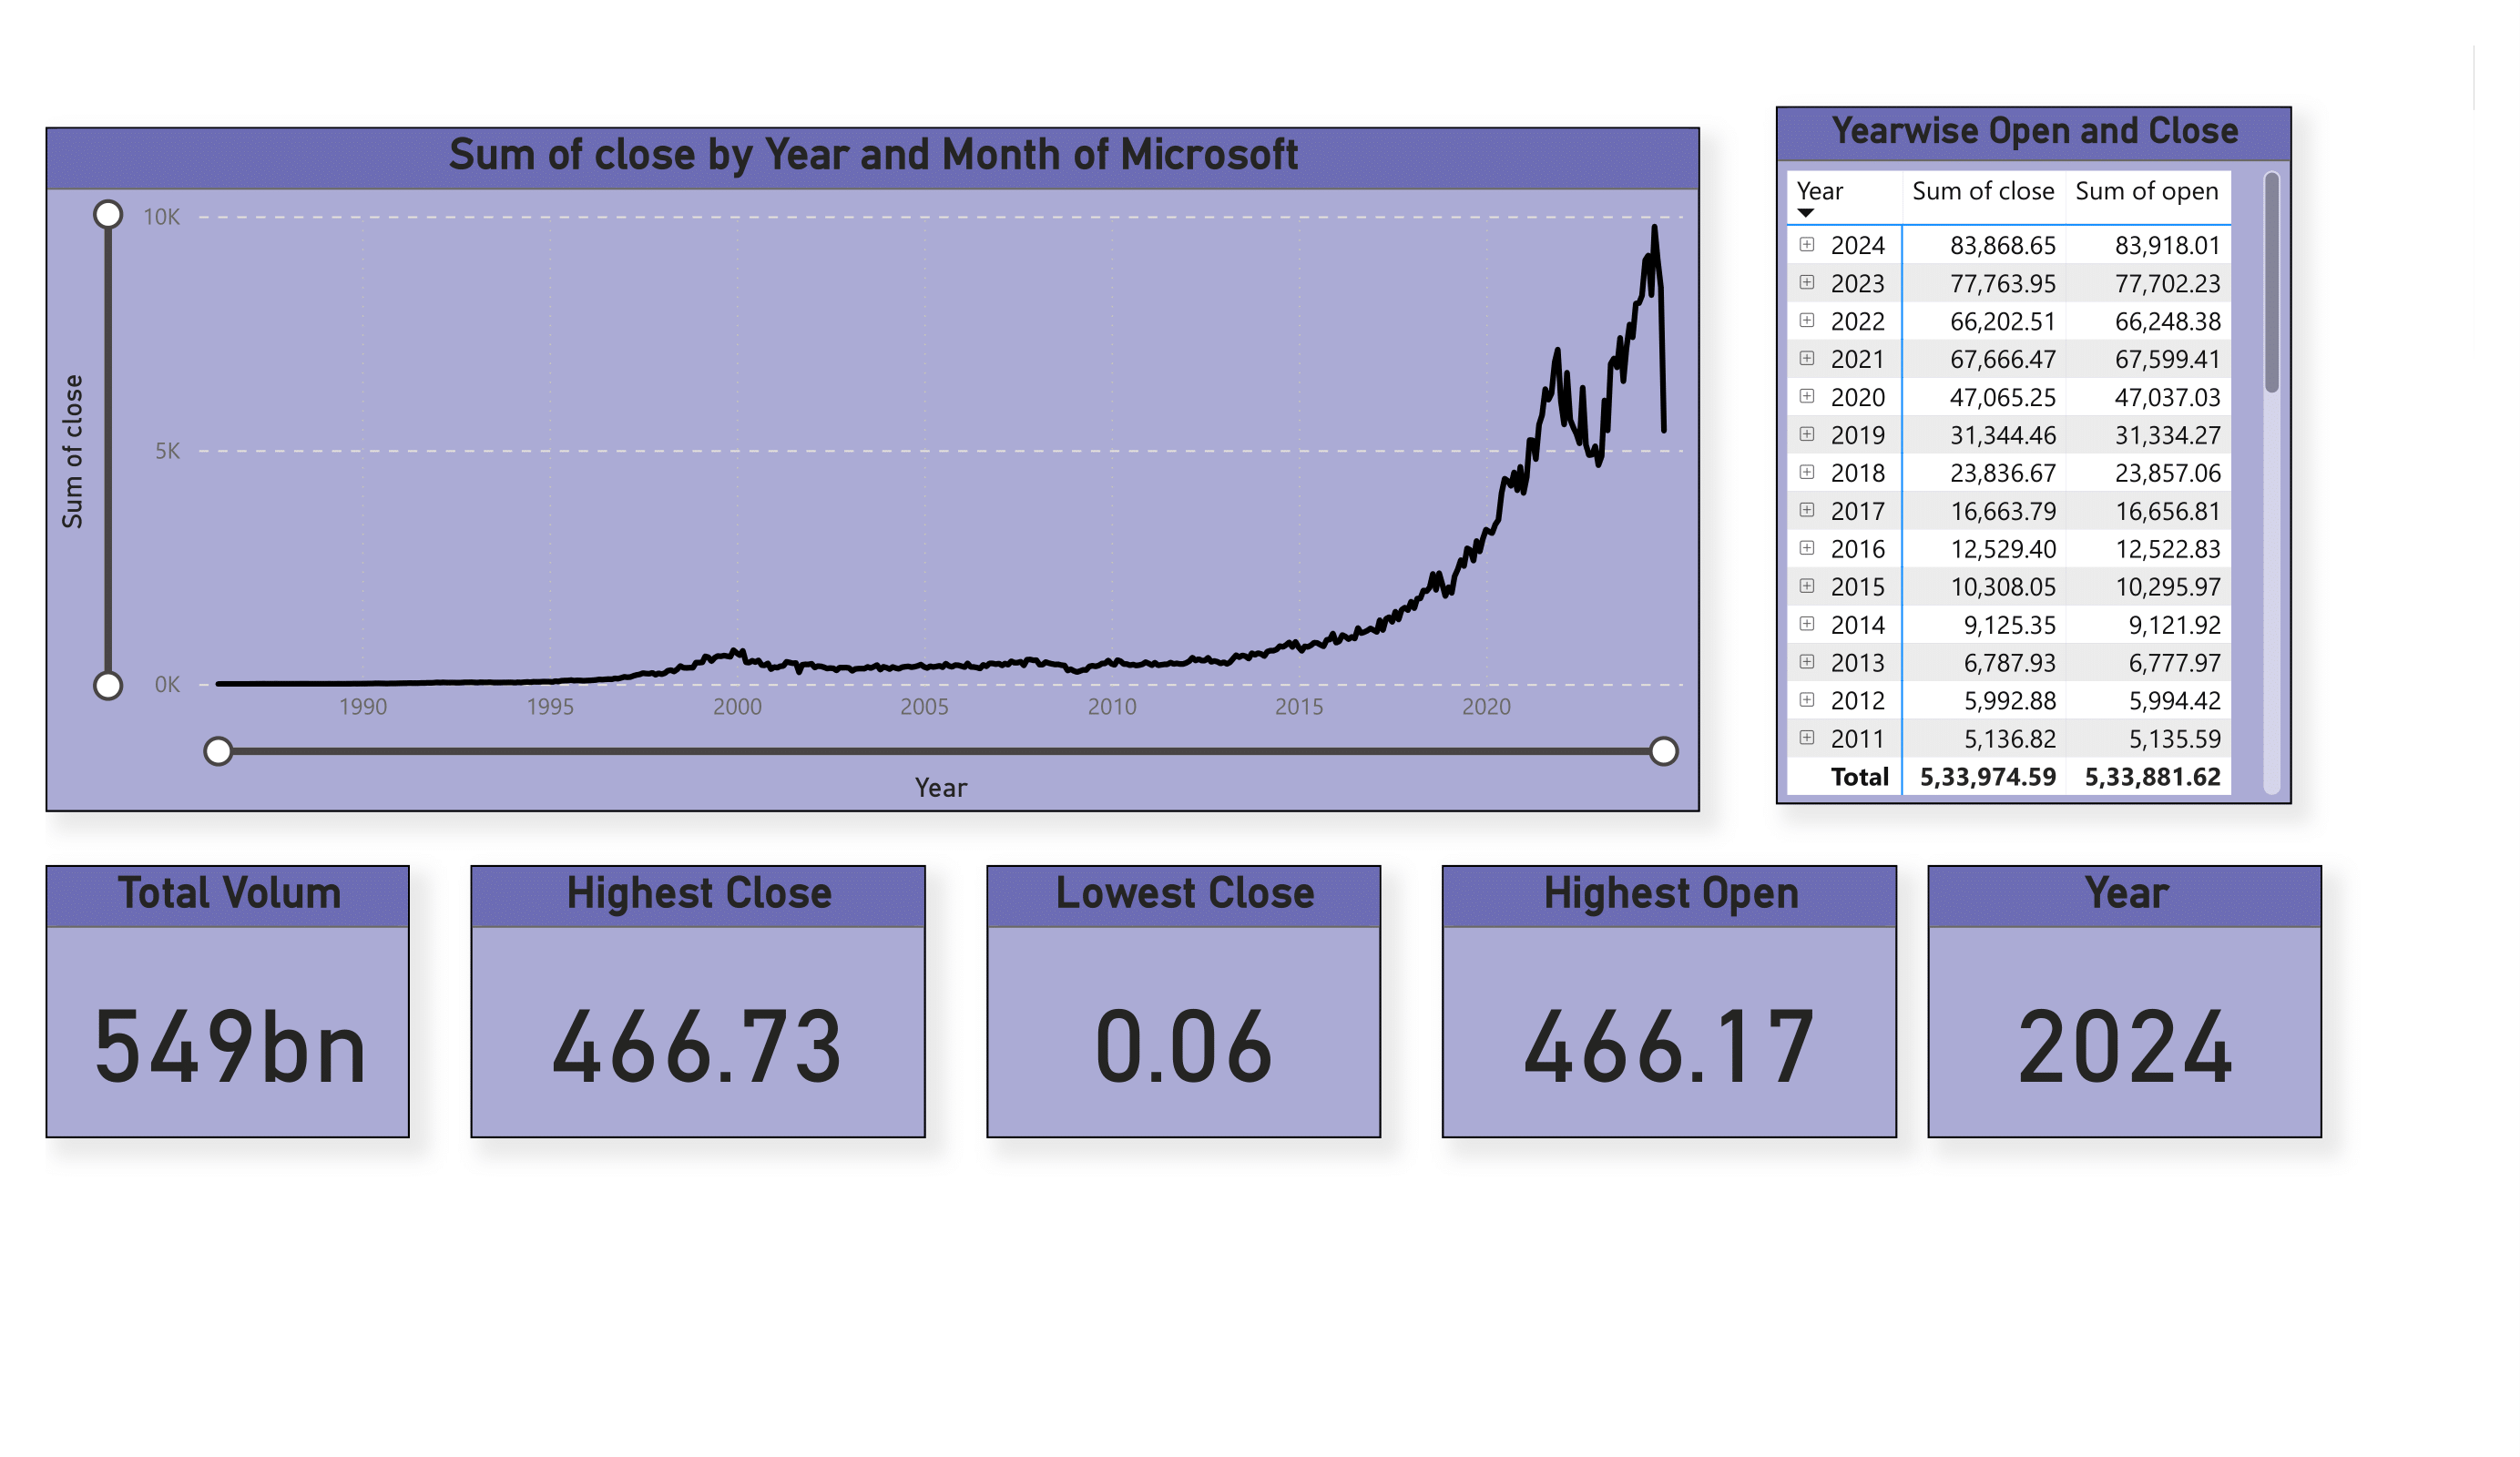

This screenshot's page, from the dashboard's own definition file:
{"tool":"powerbi","page":{"name":"Microsoft","canvas":[1280,720],"ordinal":4},"visuals":[{"type":"lineChart","title":"Sum of close by Year and Month of Microsoft","fields":{"Category":["Preprocessed_MSFT_Dataset.date.Variation.Date Hierarchy.Year","Preprocessed_MSFT_Dataset.date.Variation.Date Hierarchy.Month"],"Y":["Sum(Preprocessed_MSFT_Dataset.close)"]},"box":[0,42.7,871.5,361.1],"z":0},{"type":"pivotTable","title":"Yearwise Open and Close","fields":{"Rows":["Preprocessed_MSFT_Dataset.date.Variation.Date Hierarchy.Year","Preprocessed_MSFT_Dataset.date.Variation.Date Hierarchy.Month"],"Values":["Sum(Preprocessed_MSFT_Dataset.close)","Sum(Preprocessed_MSFT_Dataset.open)"]},"box":[912,32,272,368],"z":1000},{"type":"card","title":"Total Volum","fields":{"Values":["Preprocessed_MSFT_Dataset.Measure 14"]},"box":[0,432,192,144],"z":2000},{"type":"card","title":"Highest Close ","fields":{"Values":["Preprocessed_MSFT_Dataset.Measure 11"]},"box":[224,432,240,144],"z":3000},{"type":"card","title":"Lowest Close","fields":{"Values":["Preprocessed_MSFT_Dataset.Measure 12"]},"box":[496,432,208,144],"z":4000},{"type":"card","title":"Highest Open","fields":{"Values":["Preprocessed_MSFT_Dataset.Measure 13"]},"box":[736,432,240,144],"z":5000},{"type":"card","title":"Year","fields":{"Values":["Max(Preprocessed_MSFT_Dataset.date.Variation.Date Hierarchy.Year)"]},"box":[992,432,208,144],"z":6000}]}

Visuals, with their boxes on the page's 1280x720 design canvas (x1, y1, x2, y2). These are canvas units, not pixel positions in the 2520x1457 screenshot, which may show the page scaled, cropped or inside an application window:
"Sum of close by Year and Month of Microsoft" lineChart: [0, 43, 872, 404]
"Yearwise Open and Close" pivotTable: [912, 32, 1184, 400]
"Total Volum" card: [0, 432, 192, 576]
"Highest Close " card: [224, 432, 464, 576]
"Lowest Close" card: [496, 432, 704, 576]
"Highest Open" card: [736, 432, 976, 576]
"Year" card: [992, 432, 1200, 576]
